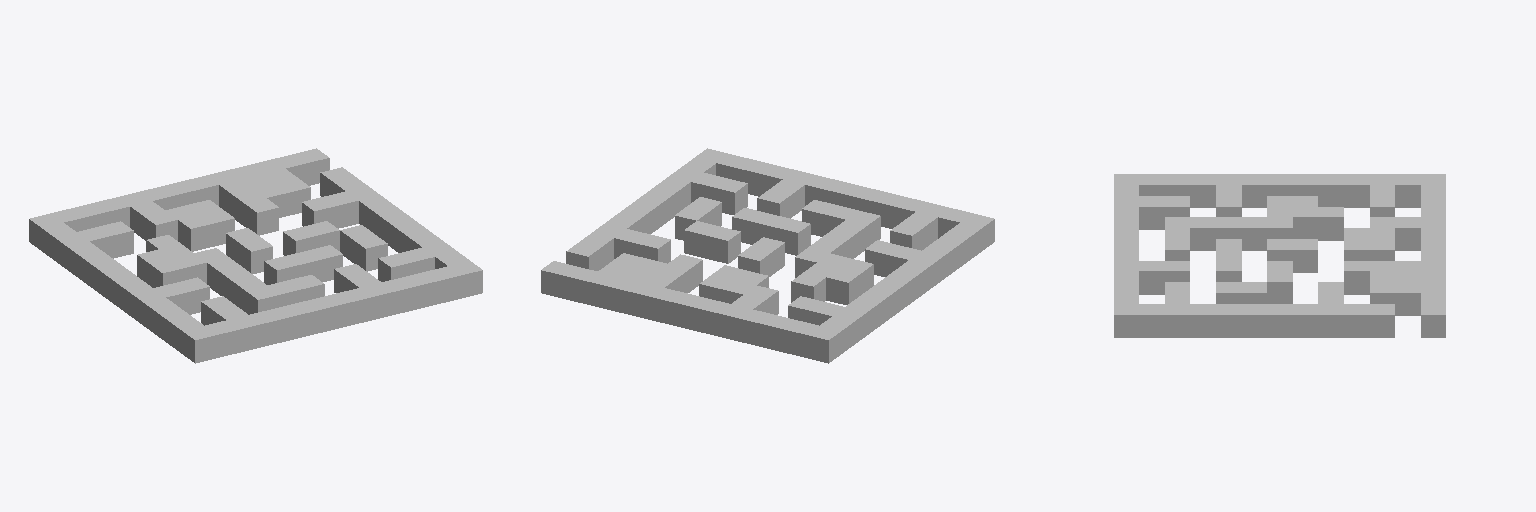
Rendered from map6.obj.
The picture shows the model from 3 angles: view 1: azimuth 30°, elevation 25°; view 2: azimuth 150°, elevation 25°; view 3: azimuth 270°, elevation 25°; orthographic projection.
Parts seen in each view (by area): view 1: mergedBlocks; view 2: mergedBlocks; view 3: mergedBlocks.
Boxes of the visible parts, box(x1,y1,x2,y2) form: mergedBlocks: box(29, 148, 482, 363); mergedBlocks: box(541, 148, 994, 363); mergedBlocks: box(1114, 174, 1445, 337).
Bounding box in the file's own units: 13 × 1 × 13.